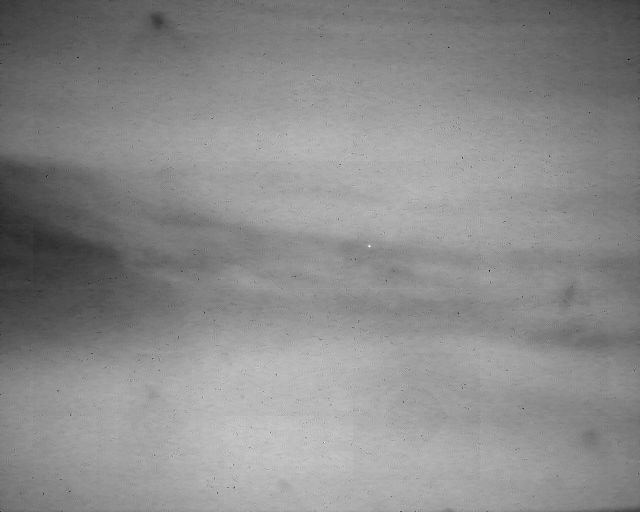Target: (368, 245, 373, 250)
